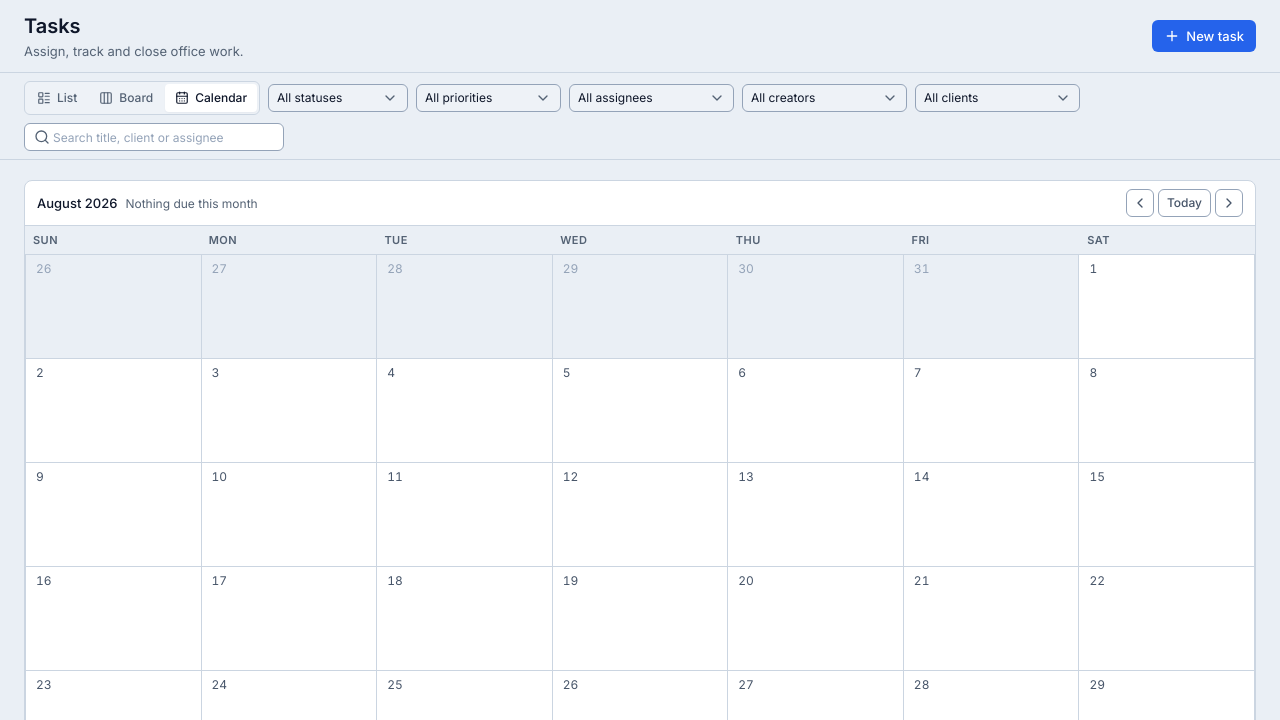
Test: TaskList — the calendar month (H-7) › changing month issues a new request for the new window
expect the heading "August 2026" is shown: met, box [37,194,117,212]
Click the button named "Previous month". click: (1140, 203)
box: [1126,189,1154,217]
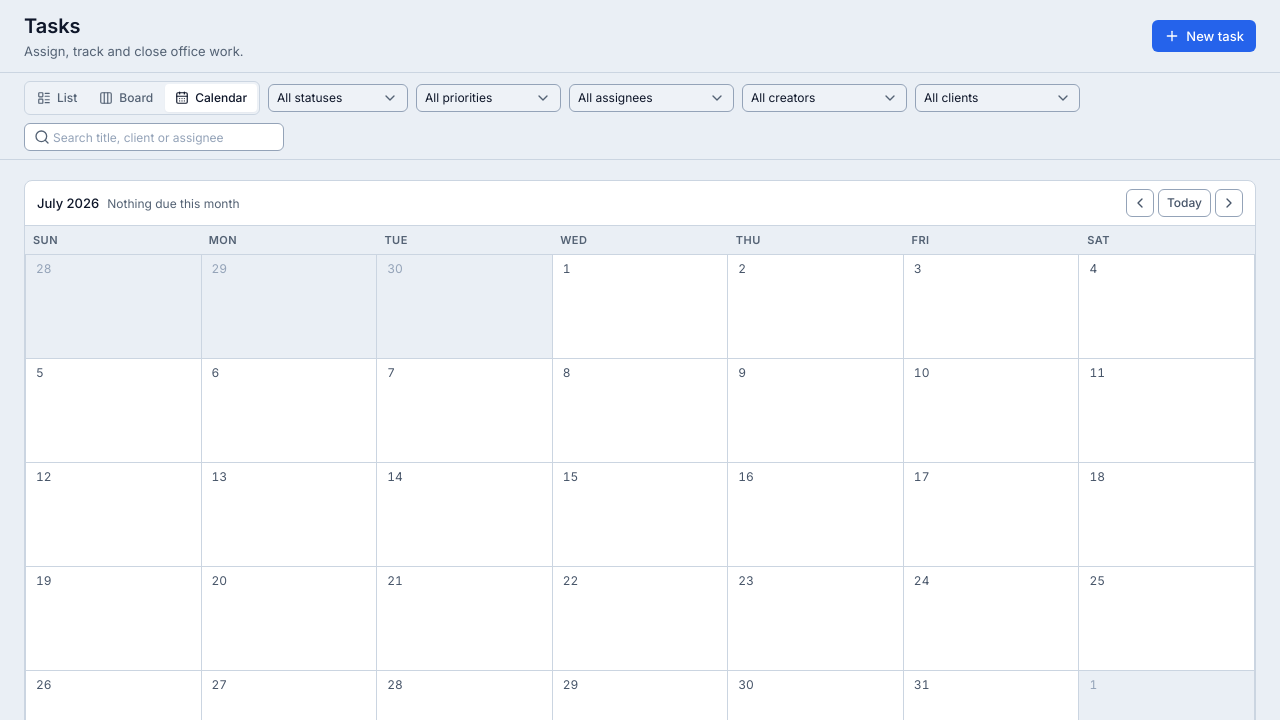
expect the heading "July 2026" is shown: met, box [37,194,99,212]
